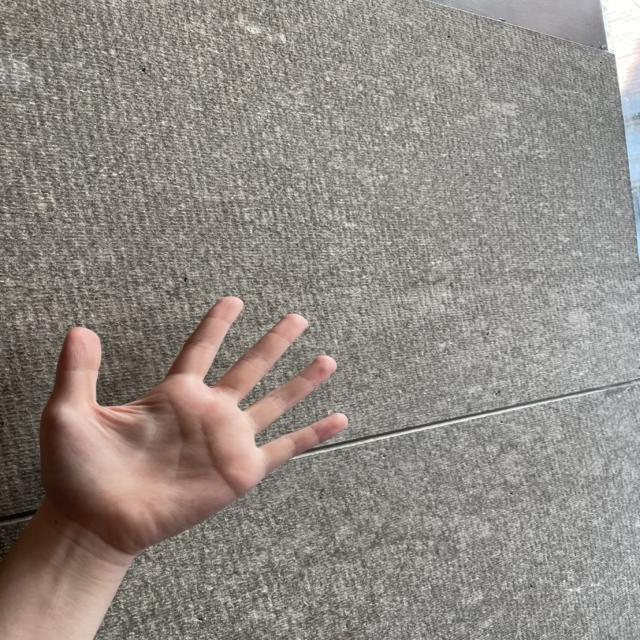hand: (26, 286, 375, 562)
